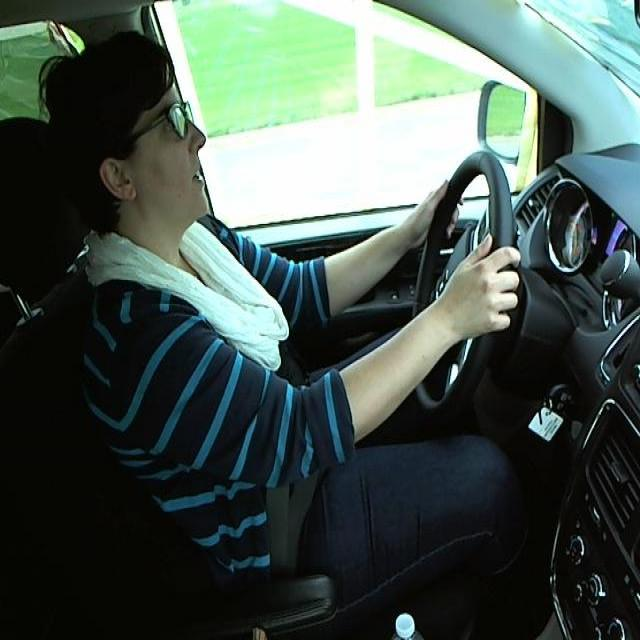without_using_phone: (36, 14, 259, 273)
